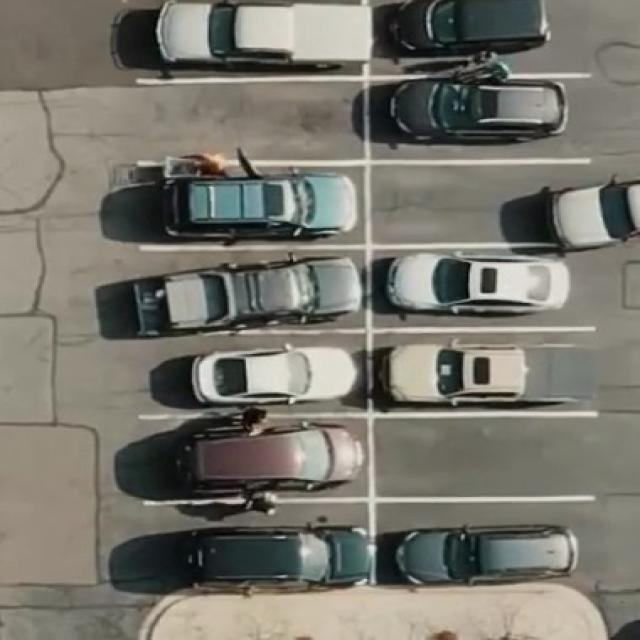space-empty: (132, 72, 366, 166), (366, 154, 591, 251), (371, 413, 596, 502)
space-occupied: (111, 498, 372, 595), (135, 323, 369, 416), (128, 413, 372, 502), (367, 323, 600, 416), (128, 158, 371, 246), (134, 242, 370, 331), (367, 65, 583, 160), (372, 497, 593, 586), (123, 1, 369, 80), (367, 240, 581, 328), (370, 0, 552, 68)
